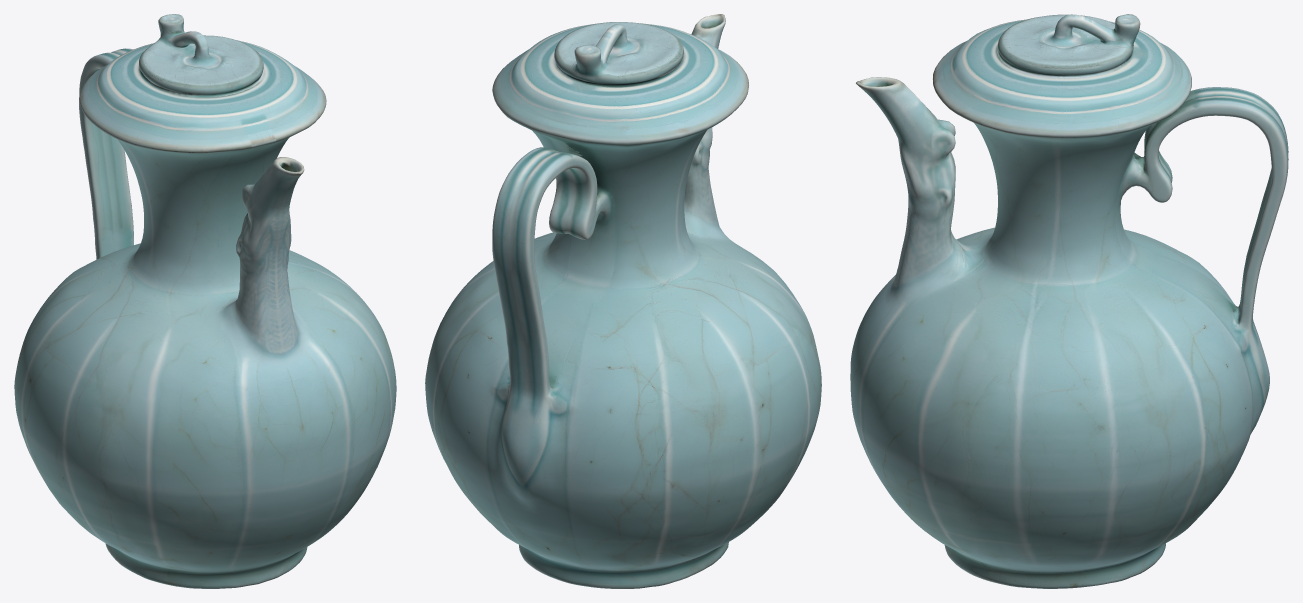
File: Meshy_AI__0408102110_texture.fbx
3 renders of one model, left to right at view 1: azimuth 30°, elevation 25°; view 2: azimuth 150°, elevation 25°; view 3: azimuth 270°, elevation 25°, orthographic. The views are drawn at different scales.
Visible parts, largest first — view 1: Mesh_0; view 2: Mesh_0; view 3: Mesh_0.
Part boxes in pixels (left/top/right/bottom): Mesh_0: left=14, top=14, right=396, bottom=588; Mesh_0: left=425, top=14, right=821, bottom=588; Mesh_0: left=850, top=14, right=1288, bottom=588.
Size of the model in its own units: 134 by 200 by 149.
Materials: 1 (1 with a texture image).
